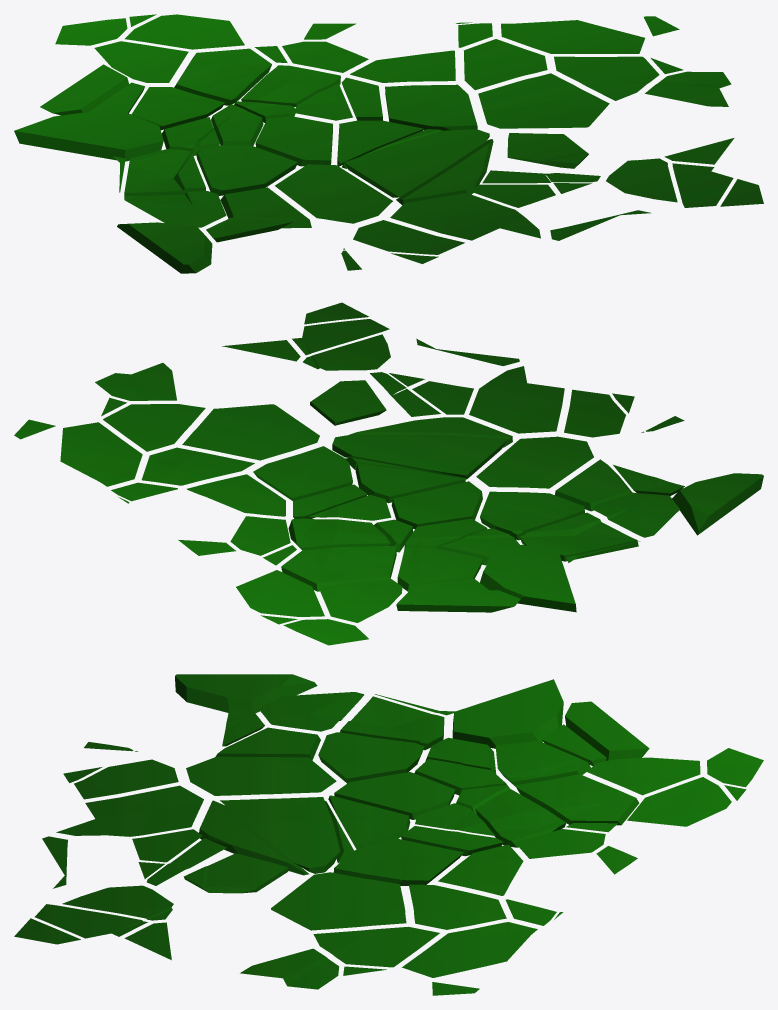
The model's file is Piso_Decoracion.fbx.
The picture shows the model from 3 angles, top to bottom: view 1: azimuth 30°, elevation 25°; view 2: azimuth 150°, elevation 25°; view 3: azimuth 270°, elevation 25°; orthographic projection. The views are drawn at different scales.
Parts seen in each view (by area): view 1: Piso_Detalle1; view 2: Piso_Detalle1; view 3: Piso_Detalle1.
Boxes of the visible parts, box(x1,y1,x2,y2) form: Piso_Detalle1: box(14, 14, 763, 273); Piso_Detalle1: box(14, 302, 763, 645); Piso_Detalle1: box(14, 674, 763, 995).
Size of the model in its own units: 1302 by 26.14 by 1304.
